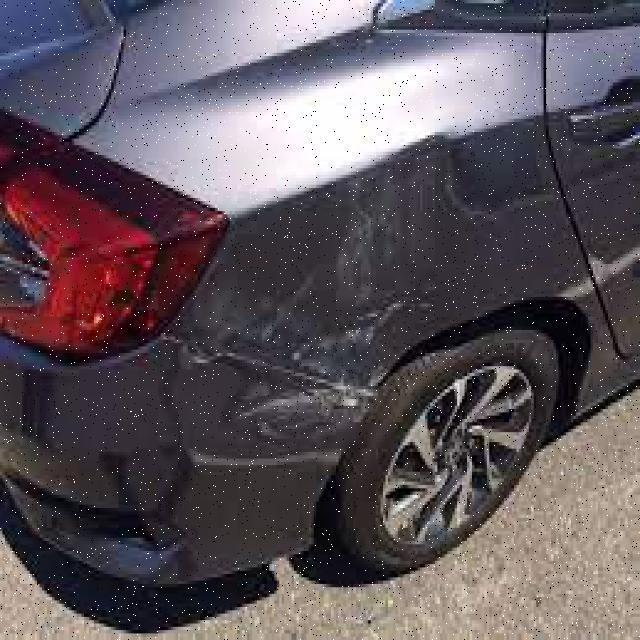quaterpanel-dent: (176, 40, 568, 382)
rear-bumper-dent: (2, 356, 370, 624)
